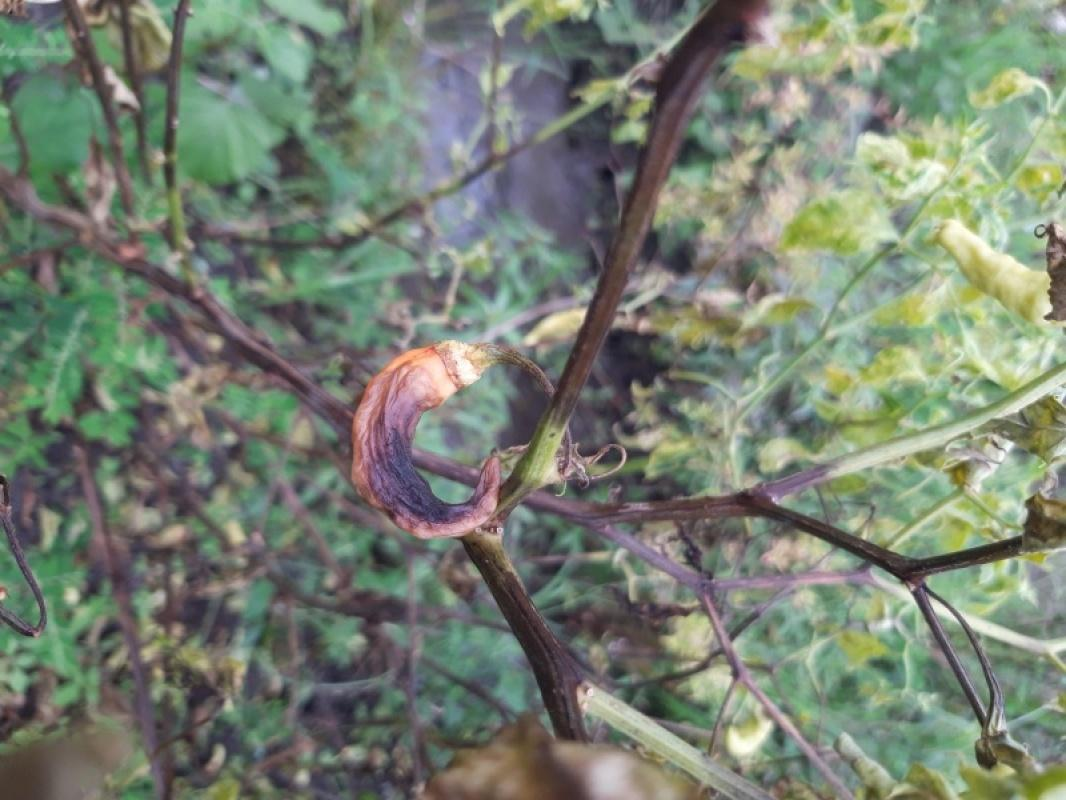antraknosa: (348, 345, 508, 539)
cabai_normal: (936, 218, 1051, 330)
